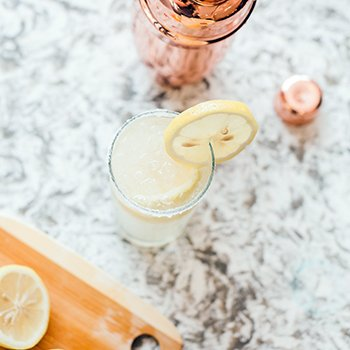pizza: (108, 105, 259, 251), (130, 0, 258, 103)
taco: (0, 264, 51, 350)
